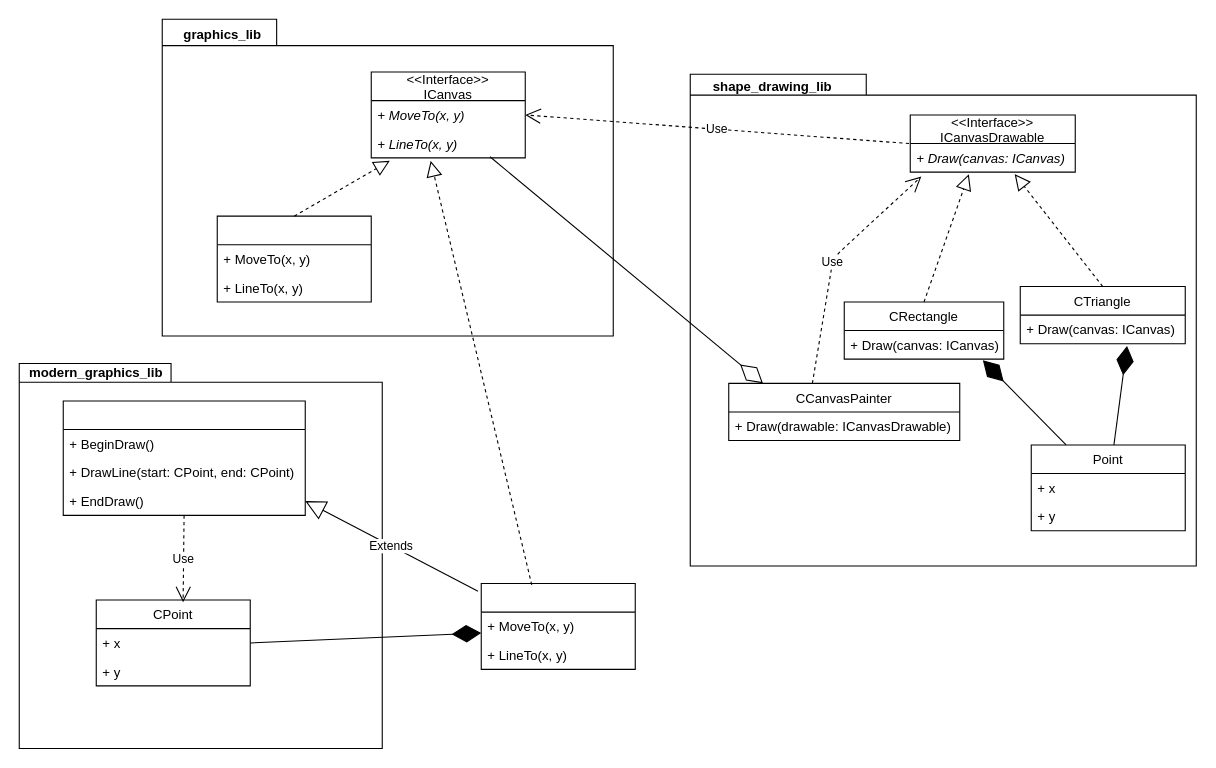
The diagram is 1216 pixels wide and 768 high, and some of its shapes have lost their labels. Each missing label, with the box of its shape:
CCanvas: (216, 215, 371, 302)
CGraphicsAdapter: (480, 582, 635, 669)
CModernGraphicsRenderer: (62, 400, 305, 515)
